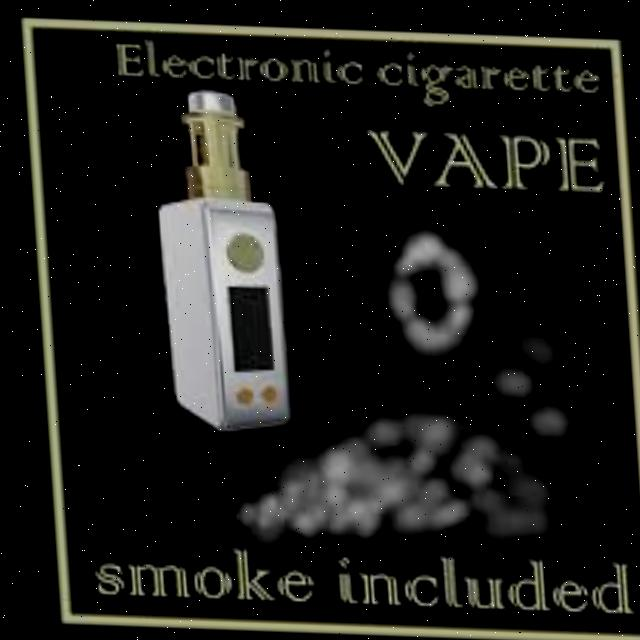vape: (149, 87, 288, 433)
